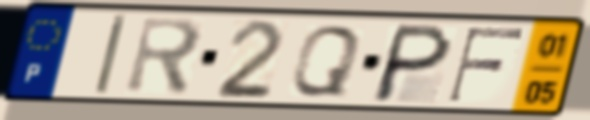2: (214, 16, 286, 100)
F: (444, 26, 529, 105)
I: (90, 12, 131, 97)
P: (367, 22, 457, 106)
Q: (287, 23, 365, 99)
R: (122, 14, 206, 98)
